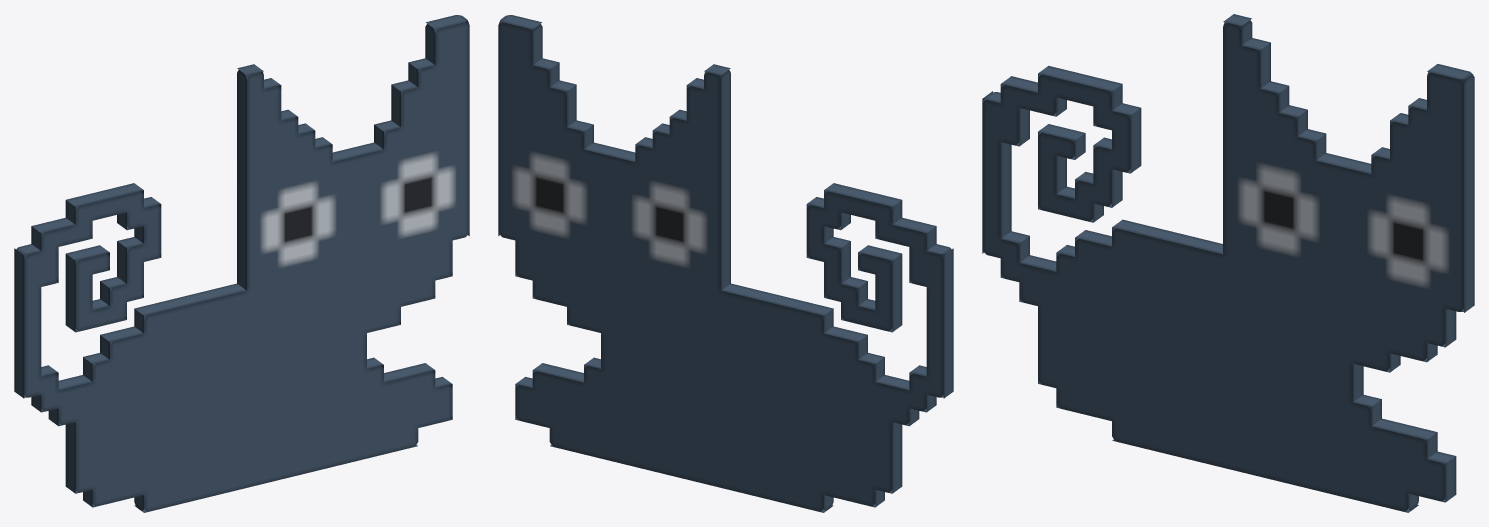
File: cat3N.fbx
3 views of the same model, side by side, from view 1: azimuth 30°, elevation 25°; view 2: azimuth 150°, elevation 25°; view 3: azimuth 330°, elevation 25° (orthographic). The views are drawn at different scales.
Parts seen in each view (by area): view 1: generated; view 2: generated; view 3: generated.
Boxes of the visible parts, x1,y1,x2,y2 form: generated: (14,15,469,512); generated: (498,15,953,512); generated: (982,14,1474,512).
Bounding box in the file's own units: 260 × 230 × 10.
